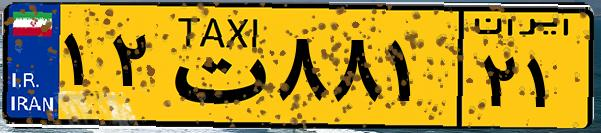1: (385, 28, 445, 110), (57, 26, 110, 100), (525, 38, 570, 115)
2: (475, 38, 525, 113), (110, 28, 158, 98)
8: (270, 28, 330, 110), (330, 28, 385, 110)
ت: (158, 12, 270, 120)
